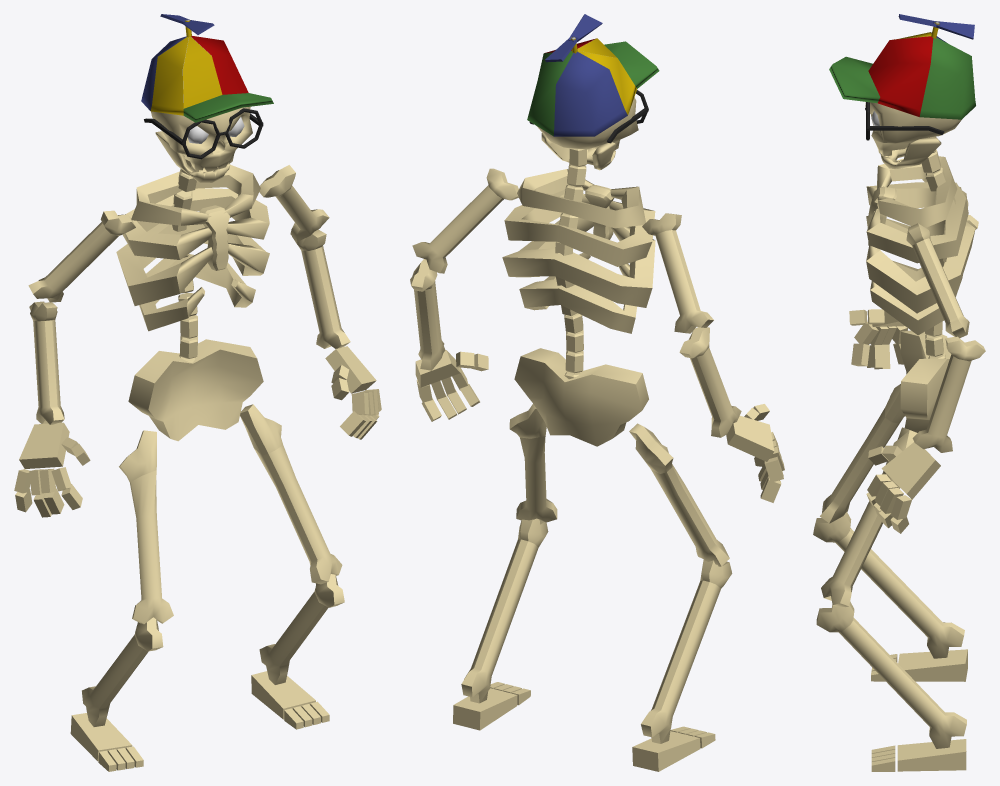
The model's file is skeleton_PROPELLER_frame01.fbx.
The picture shows the model from 3 angles, left to right: view 1: azimuth 30°, elevation 25°; view 2: azimuth 150°, elevation 25°; view 3: azimuth 270°, elevation 25°; orthographic projection.
Parts seen in each view (by area): view 1: skeleton_incharacter_frame1Shape; view 2: skeleton_incharacter_frame1Shape; view 3: skeleton_incharacter_frame1Shape.
Boxes of the visible parts, bbox=[...] form: skeleton_incharacter_frame1Shape: bbox=[14, 14, 381, 771]; skeleton_incharacter_frame1Shape: bbox=[410, 14, 784, 771]; skeleton_incharacter_frame1Shape: bbox=[813, 14, 985, 771].
Bounding box in the file's own units: 96.32 × 179 × 39.7.
